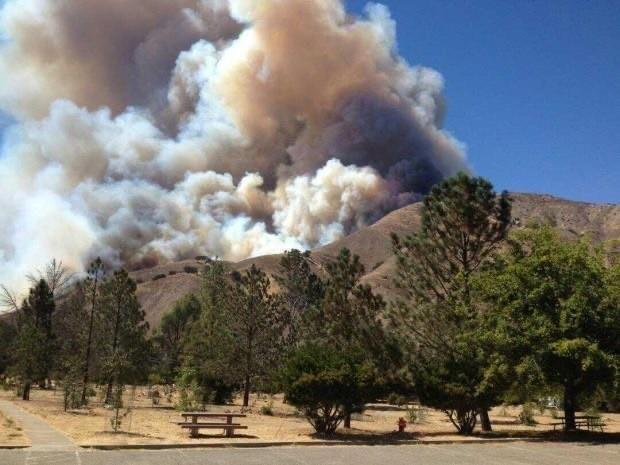smoke: (0, 0, 506, 376), (31, 96, 277, 314), (210, 24, 436, 213)
